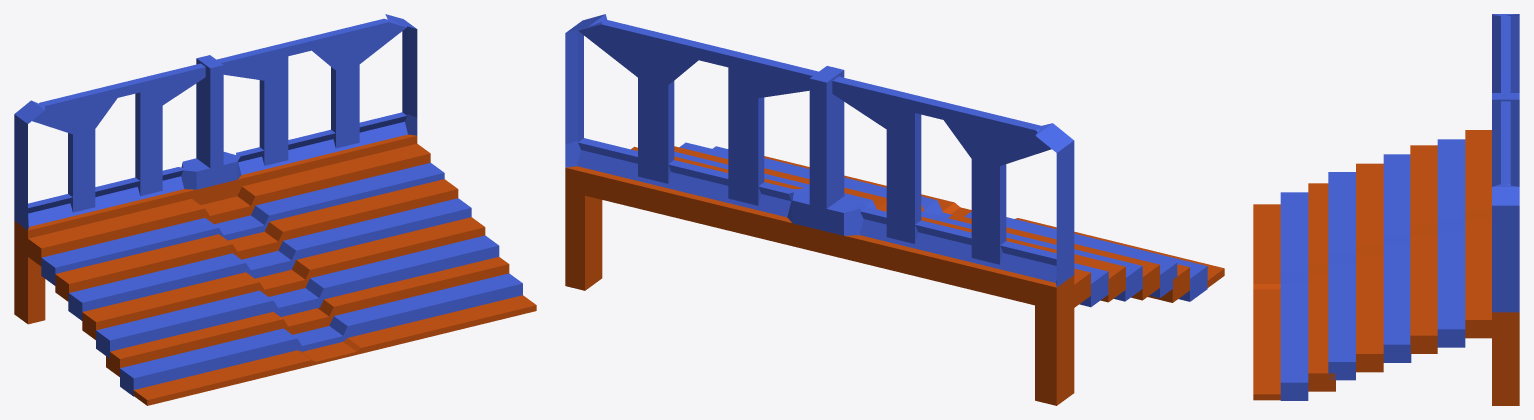
File: Stands2.fbx
3 views of the same model, side by side, from view 1: azimuth 30°, elevation 25°; view 2: azimuth 150°, elevation 25°; view 3: azimuth 270°, elevation 25° (orthographic). The views are drawn at different scales.
Visible parts, largest first — view 1: Cube.010, Cube, Cube.002, Cube.003, Cube.007, Cube.004, Cube.005, Cube.008, Cube.001, Cube.009, Cube.006; view 2: Cube.010, Cube.006, Cube.002, Cube.005, Cube, Cube.004, Cube.003, Cube.009, Cube.008, Cube.001; view 3: Cube.010, Cube.008, Cube, Cube.005, Cube.004, Cube.003, Cube.002, Cube.007, Cube.009, Cube.001, Cube.006.
Part boxes in pixels (left/top/right/bottom): Cube.010: left=14, top=14, right=417, bottom=230; Cube: left=120, top=273, right=522, bottom=396; Cube.002: left=96, top=235, right=499, bottom=358; Cube.003: left=55, top=179, right=458, bottom=301; Cube.007: left=28, top=143, right=430, bottom=266; Cube.004: left=68, top=198, right=471, bottom=320; Cube.005: left=82, top=217, right=485, bottom=339; Cube.008: left=41, top=162, right=444, bottom=285; Cube.001: left=106, top=257, right=509, bottom=376; Cube.009: left=133, top=295, right=536, bottom=405; Cube.006: left=14, top=134, right=417, bottom=324; Cube.010: left=565, top=14, right=1074, bottom=287; Cube.006: left=565, top=166, right=1074, bottom=405; Cube.002: left=679, top=142, right=1177, bottom=297; Cube.005: left=674, top=146, right=1159, bottom=300; Cube: left=712, top=146, right=1207, bottom=301; Cube.004: left=674, top=151, right=1142, bottom=301; Cube.003: left=631, top=146, right=1125, bottom=302; Cube.009: left=764, top=156, right=1224, bottom=287; Cube.008: left=1074, top=263, right=1108, bottom=307; Cube.001: left=921, top=205, right=1189, bottom=302; Cube.010: left=1492, top=14, right=1519, bottom=312; Cube.008: left=1437, top=139, right=1465, bottom=347; Cube: left=1280, top=192, right=1308, bottom=400; Cube.005: left=1356, top=163, right=1383, bottom=372; Cube.004: left=1383, top=154, right=1411, bottom=362; Cube.003: left=1410, top=145, right=1437, bottom=353; Cube.002: left=1328, top=172, right=1355, bottom=380; Cube.007: left=1465, top=130, right=1492, bottom=338; Cube.009: left=1253, top=204, right=1280, bottom=400; Cube.001: left=1308, top=183, right=1335, bottom=391; Cube.006: left=1492, top=312, right=1519, bottom=405.
Size of the model in its own units: 2056 by 1068 by 1217.
